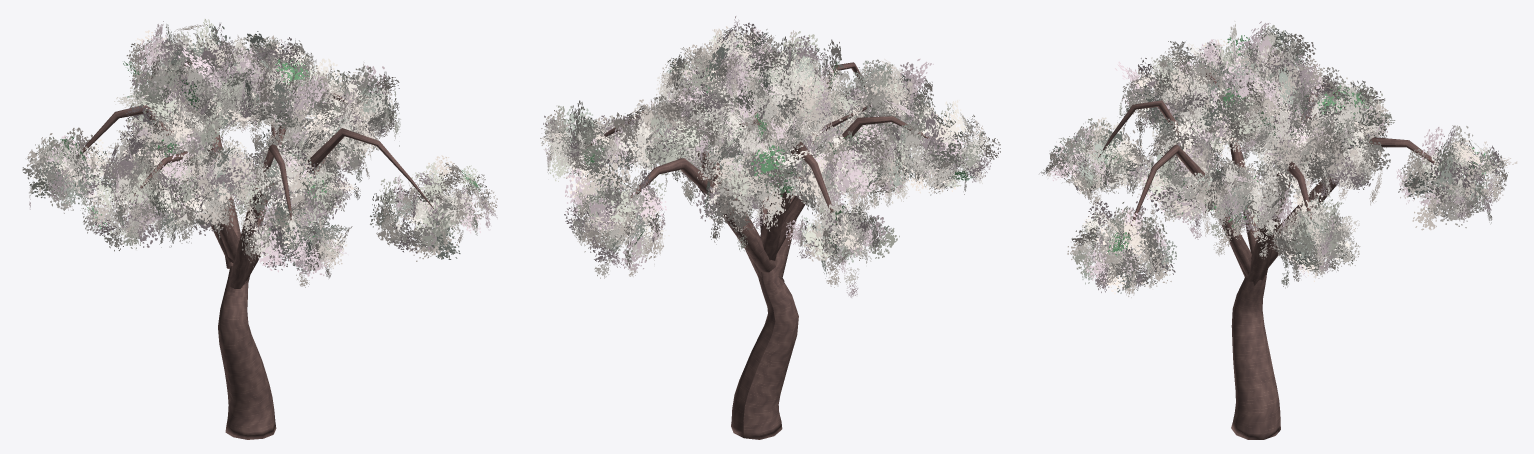
The model's file is Tree_Cherry_02_WhiteBloom.glb.
3 renders of one model, left to right at view 1: azimuth 30°, elevation 25°; view 2: azimuth 150°, elevation 25°; view 3: azimuth 270°, elevation 25°, orthographic. The views are drawn at different scales.
Parts seen in each view (by area): view 1: Tree_Cherry_02_WhiteBloom; view 2: Tree_Cherry_02_WhiteBloom; view 3: Tree_Cherry_02_WhiteBloom.
Boxes of the visible parts, box(x1,y1,x2,y2) form: Tree_Cherry_02_WhiteBloom: box(22, 19, 497, 439); Tree_Cherry_02_WhiteBloom: box(540, 16, 1000, 439); Tree_Cherry_02_WhiteBloom: box(1039, 21, 1517, 439).
Size of the model in its own units: 7.76 by 7.61 by 8.74.
2 materials, 2 textured.
